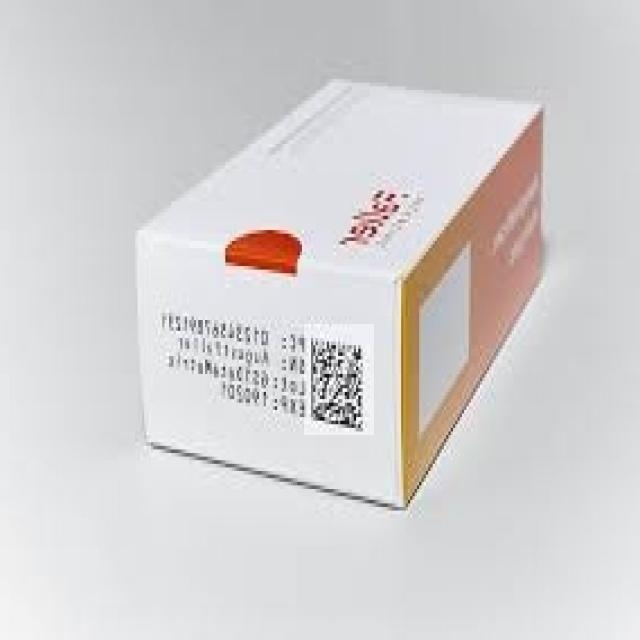Data-Matrix: (304, 324, 374, 435)
